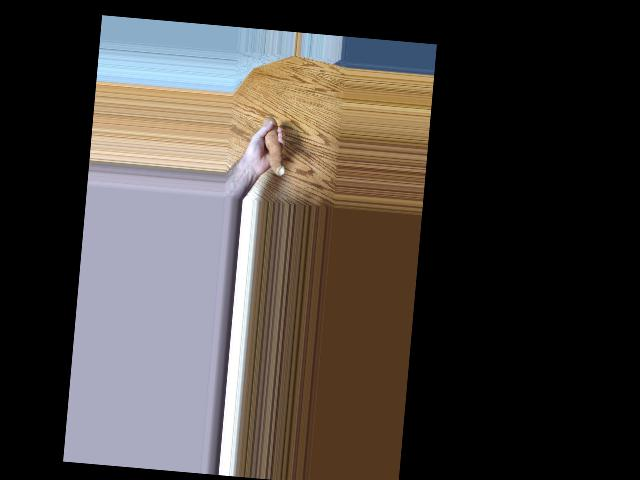sweet_potato: (259, 114, 289, 179)
